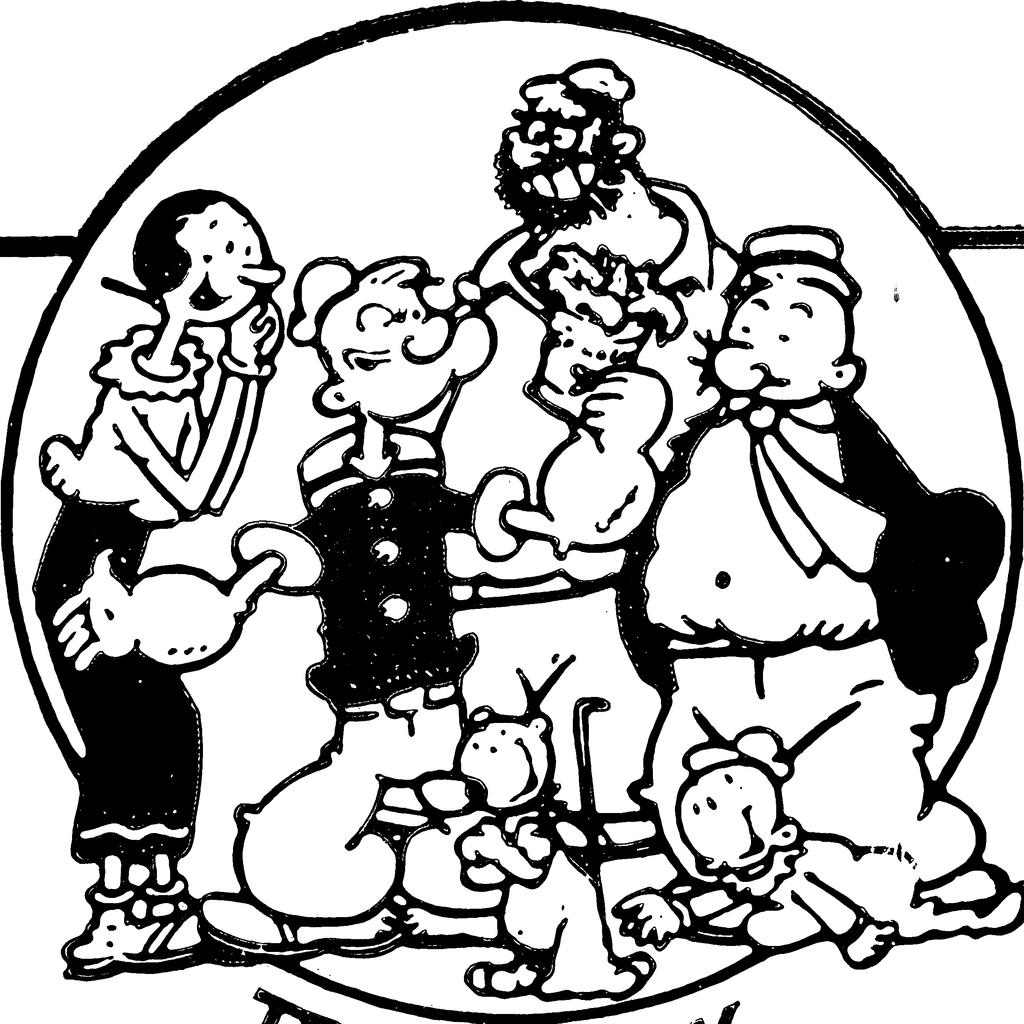Human_hand: (48, 550, 141, 675), (574, 367, 671, 453), (611, 888, 687, 953), (842, 917, 899, 972), (227, 306, 276, 363)
